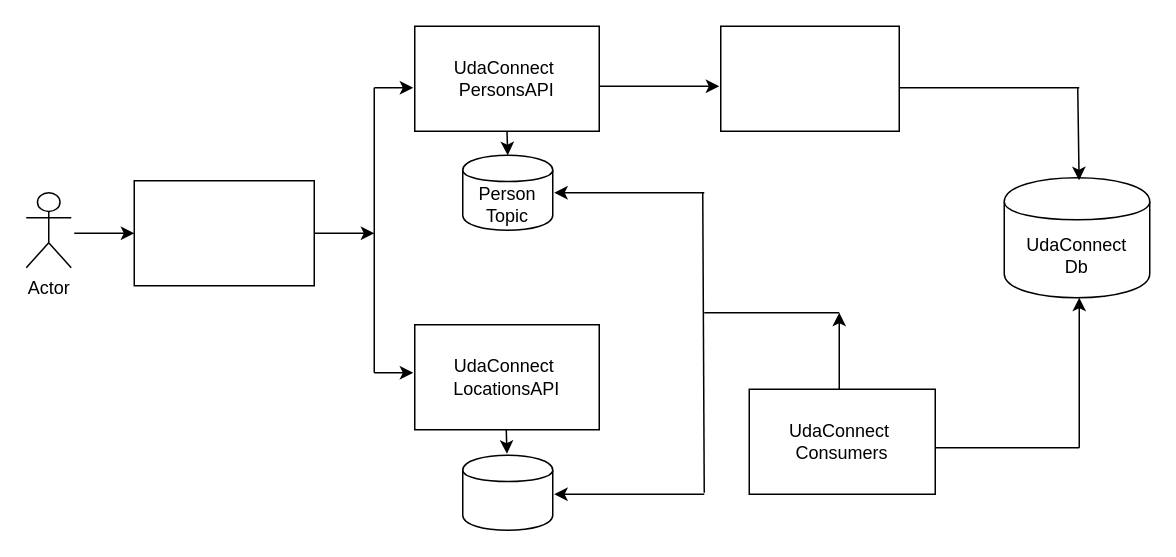
Image size: 1176x557. Some labels were removed from this diagram. Each missing label, with the centre of its shape:
"Location Topic" goes at point 507,492.
"UdaConnect App" goes at point 223,232.
"UdaConnect ConnectionsAPI" goes at point 809,78.
